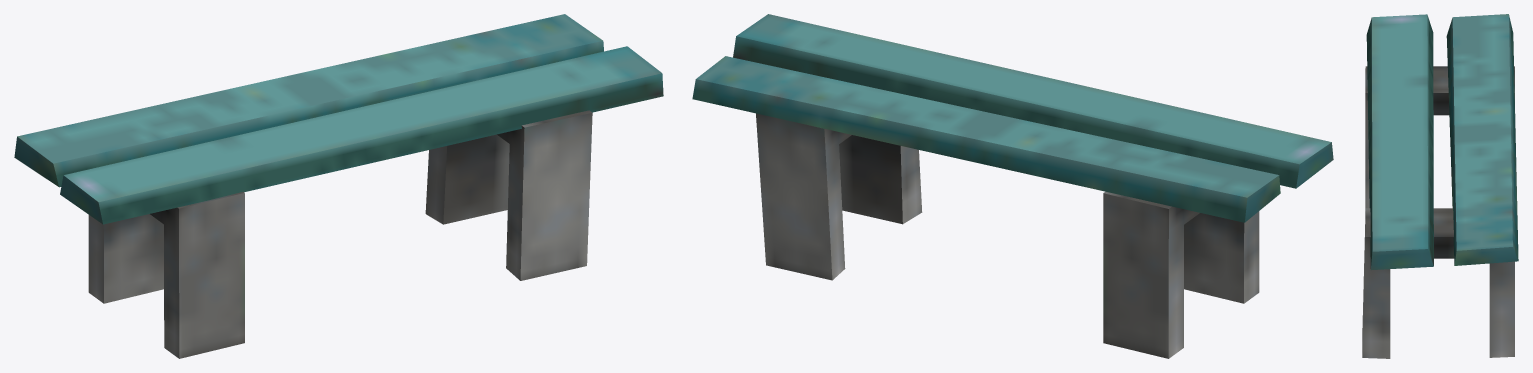
Rendered from bench01.glb.
3 renders of one model, left to right at view 1: azimuth 30°, elevation 25°; view 2: azimuth 150°, elevation 25°; view 3: azimuth 270°, elevation 25°, orthographic. The views are drawn at different scales.
Parts seen in each view (by area): view 1: bench01_elements_0; view 2: bench01_elements_0; view 3: bench01_elements_0.
Boxes of the visible parts, x1,y1,x2,y2 form: bench01_elements_0: (14, 14, 663, 358); bench01_elements_0: (692, 14, 1333, 358); bench01_elements_0: (1362, 14, 1518, 358).
Size of the model in its own units: 2.54 by 0.78 by 0.7346.
Materials: 1 (1 with a texture image).
